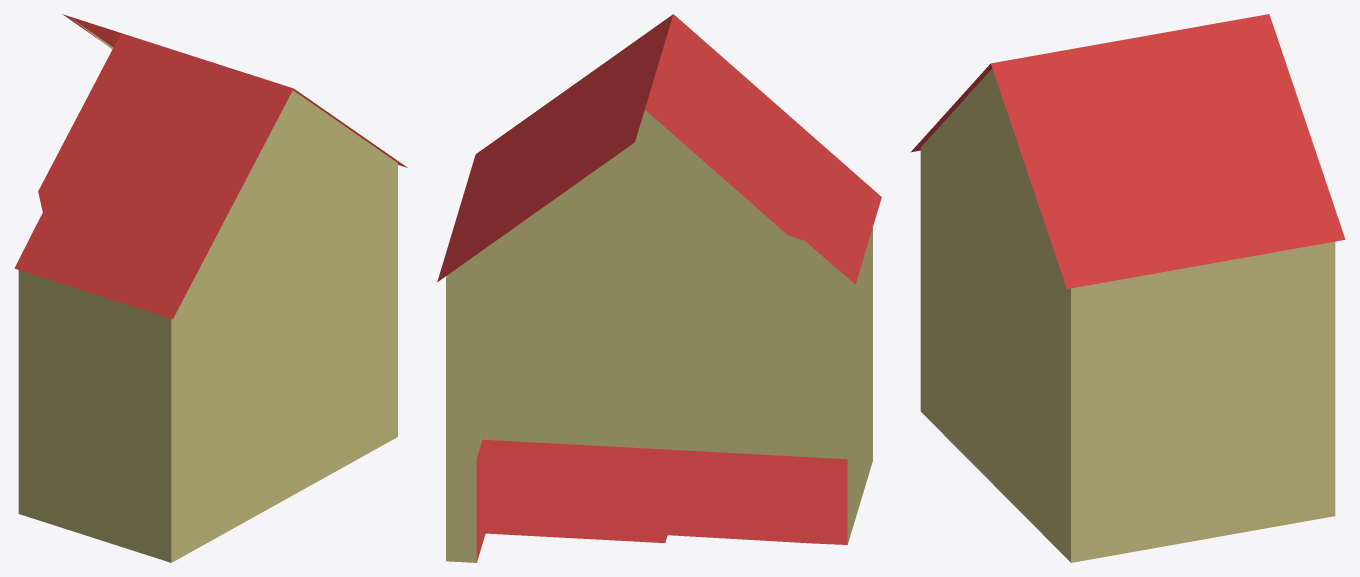
3 renders of one model, left to right at view 1: azimuth 30°, elevation 25°; view 2: azimuth 150°, elevation 25°; view 3: azimuth 270°, elevation 25°, orthographic. The views are drawn at different scales.
Bounding box in the file's own units: 14.43 × 13.87 × 15.02.
